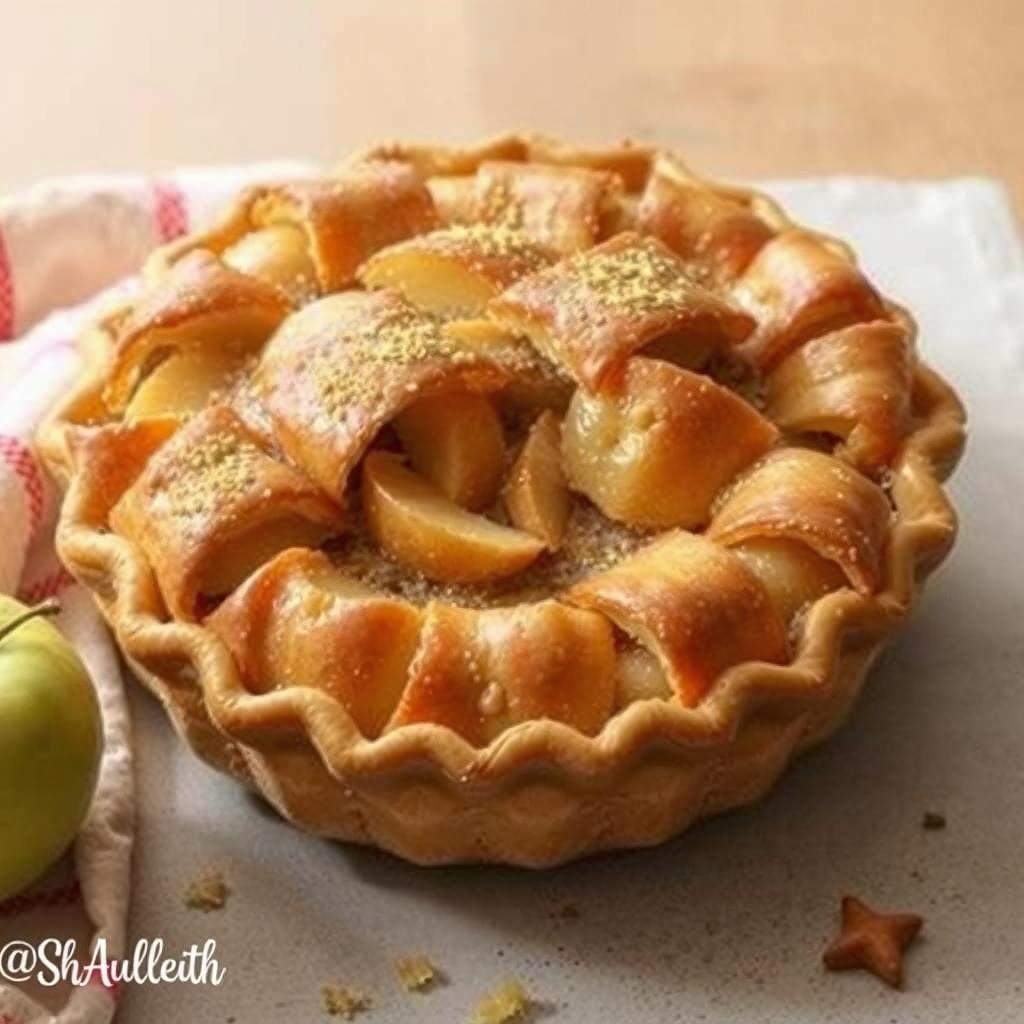pie: (30, 114, 986, 893)
